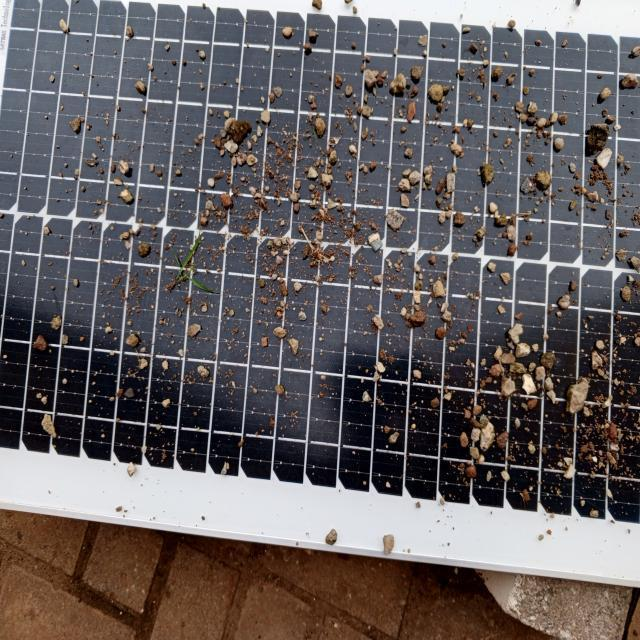Surface Contaminant: (7, 9, 639, 493)
